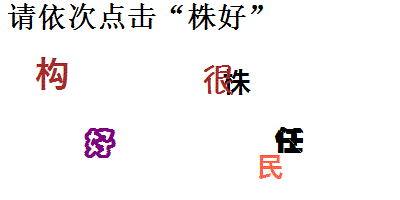text: (35, 56, 68, 92), (83, 127, 117, 160), (202, 63, 234, 96), (274, 126, 306, 155), (223, 68, 252, 97), (258, 153, 284, 180)
